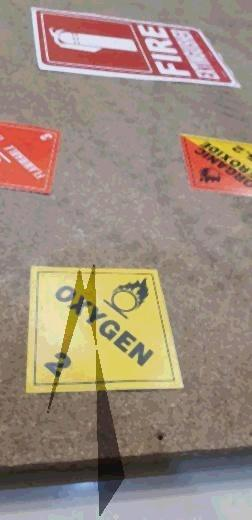flammable: (1, 120, 63, 199)
organic-peroxide: (181, 133, 252, 196)
oxidizer: (28, 265, 187, 394)
